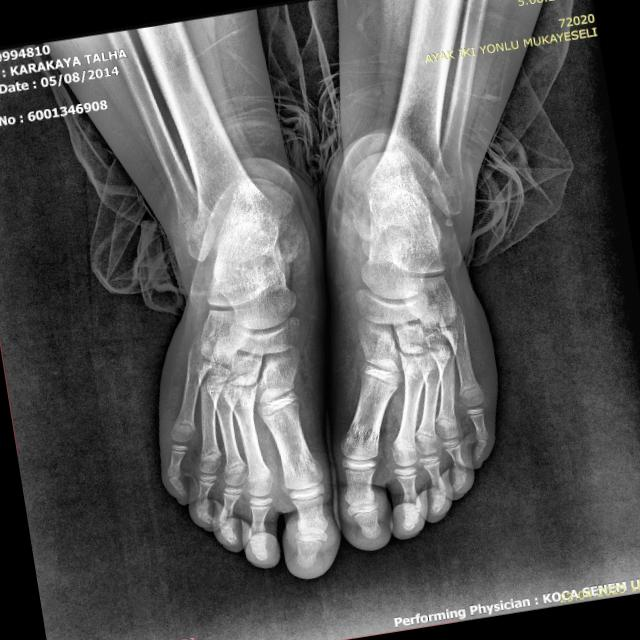Not_Fracture: (29, 0, 640, 617)
